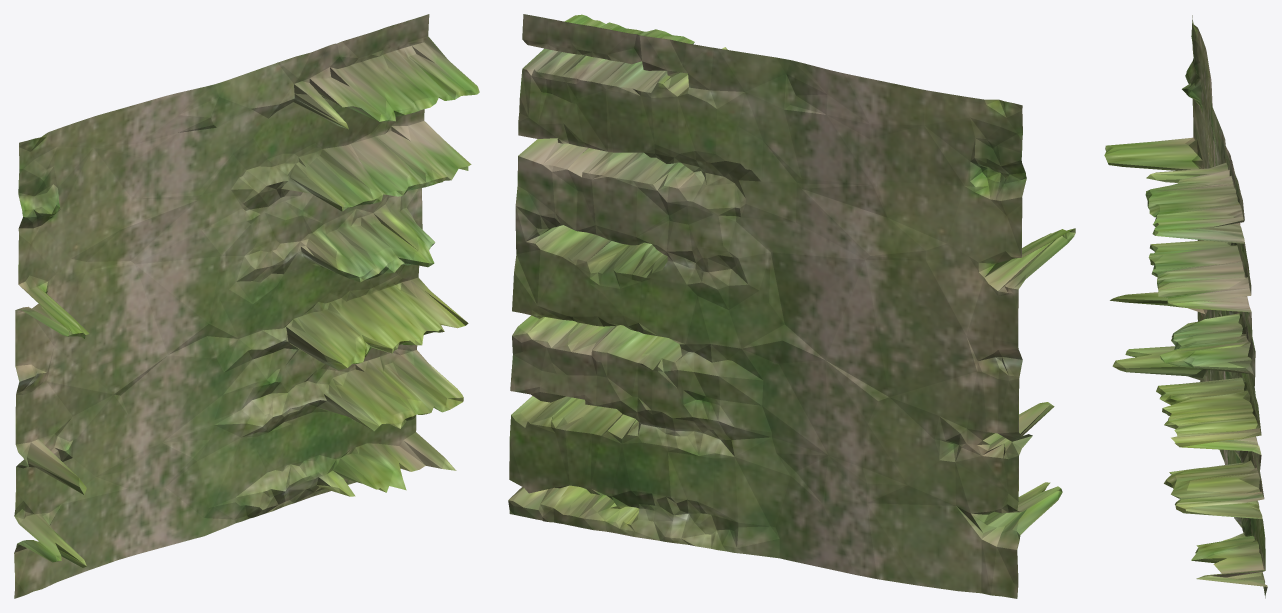
The model's file is map_70_10.obj.
The picture shows the model from 3 angles, left to right: view 1: azimuth 30°, elevation 25°; view 2: azimuth 150°, elevation 25°; view 3: azimuth 270°, elevation 25°; orthographic projection. The views are drawn at different scales.
Visible parts, largest first — view 1: grp1; view 2: grp1; view 3: grp1.
Part boxes in pixels (x1,y1,x2,y2): grp1: (14, 14, 479, 598); grp1: (508, 14, 1075, 598); grp1: (1104, 15, 1267, 598).
Size of the model in its own units: 10 by 10 by 3.71.
1 material, 1 textured.
